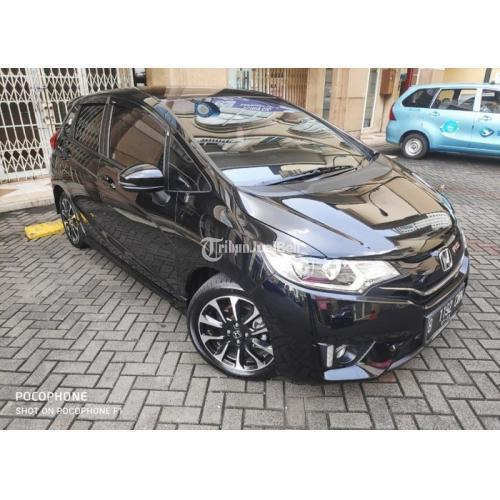Hatchback: (34, 72, 478, 390)
